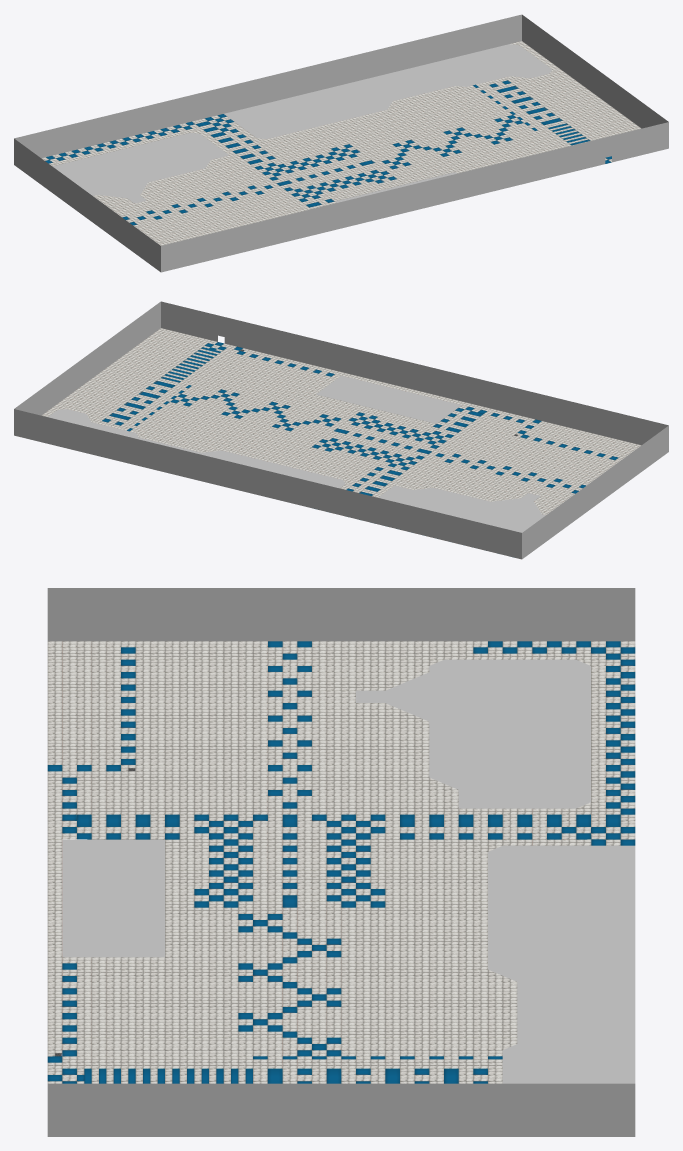
File: Level_2_Floor 1.fbx
The picture shows the model from 3 angles, top to bottom: view 1: azimuth 30°, elevation 25°; view 2: azimuth 150°, elevation 25°; view 3: azimuth 270°, elevation 25°; orthographic projection. The views are drawn at different scales.
Parts seen in each view (by area): view 1: Level_2_Floor; view 2: Level_2_Floor; view 3: Level_2_Floor.
Part boxes in pixels (x1,y1,x2,y2): Level_2_Floor: [14, 14, 668, 272]; Level_2_Floor: [14, 301, 668, 559]; Level_2_Floor: [47, 588, 635, 1136].
Bounding box in the file's own units: 28000 × 1400 × 14033.
